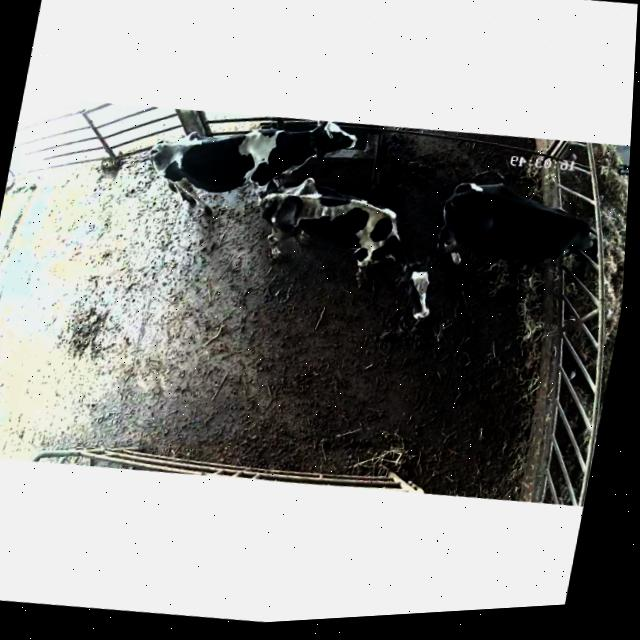stand: (229, 155, 457, 337), (133, 93, 371, 235)
